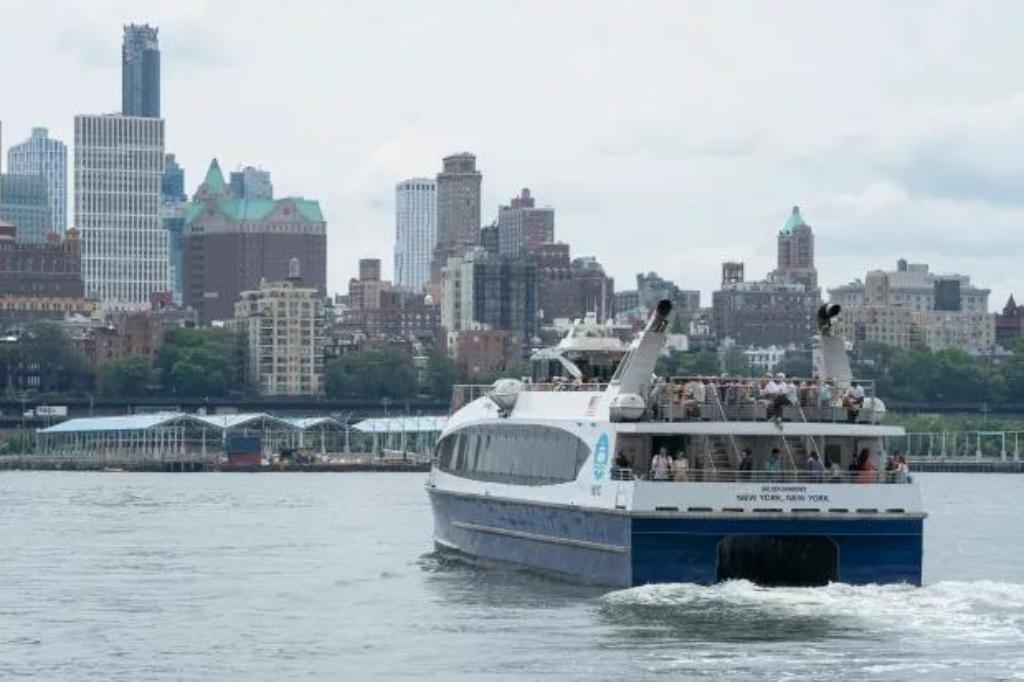PassengerShip: (418, 270, 946, 602)
